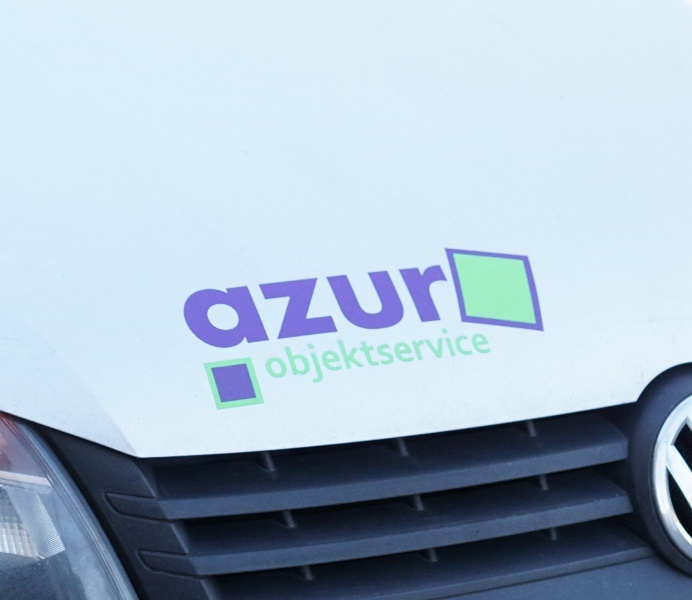text: (193, 264, 208, 353), (209, 264, 224, 353), (225, 264, 240, 353), (241, 264, 256, 353), (257, 264, 272, 353), (273, 264, 288, 353), (289, 264, 304, 353), (305, 264, 320, 353), (321, 264, 336, 353), (337, 264, 352, 353), (353, 264, 368, 353), (369, 264, 384, 353), (385, 264, 400, 353), (401, 264, 416, 353), (417, 264, 432, 353), (433, 264, 448, 353), (449, 264, 464, 353), (273, 323, 288, 391), (289, 323, 304, 391), (305, 323, 320, 391), (321, 323, 336, 391), (337, 323, 352, 391), (353, 323, 368, 391), (369, 323, 384, 391), (385, 323, 400, 391), (401, 323, 416, 391), (417, 323, 432, 391), (433, 323, 448, 391), (449, 323, 464, 391), (465, 323, 480, 391), (181, 264, 192, 353), (481, 323, 494, 391), (264, 323, 272, 391), (465, 264, 466, 353)
